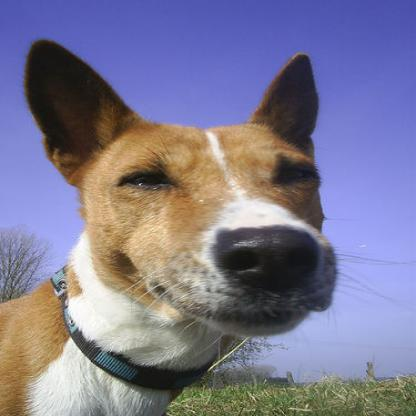dog: (0, 42, 337, 415)
